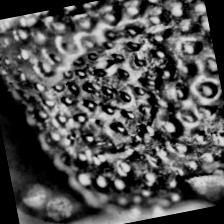Anthracnose Fruit Rot: (24, 15, 198, 173)
